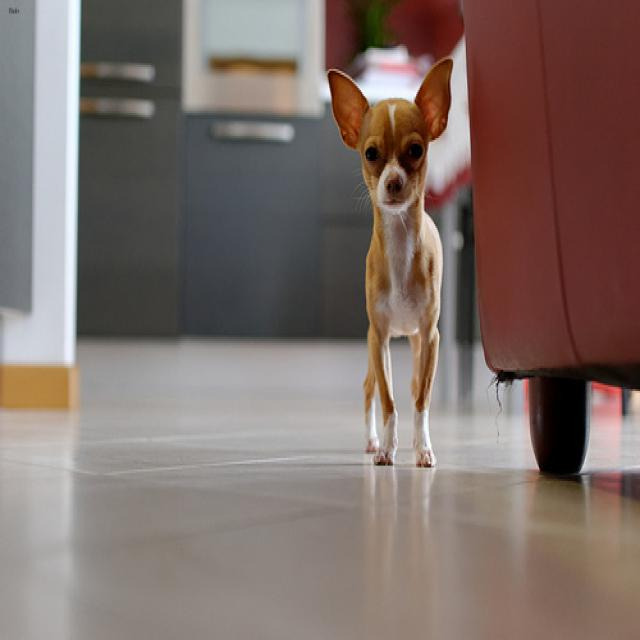dog-chihuahua: (323, 50, 461, 475)
